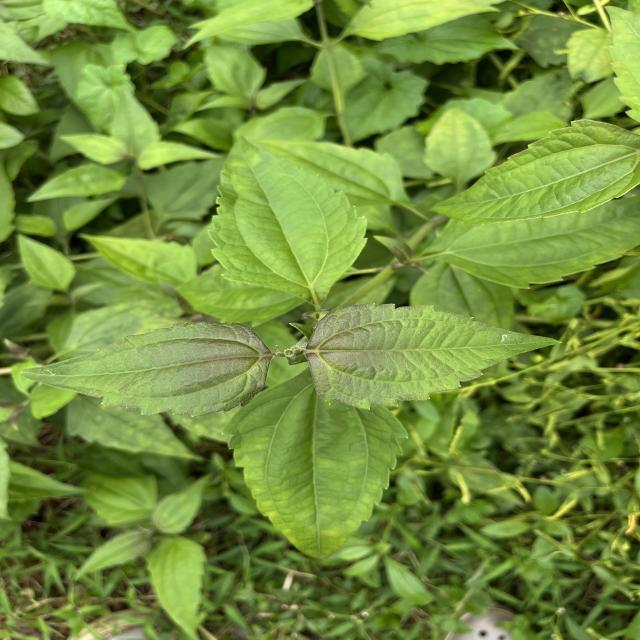Chromolaena odorata: (301, 297, 566, 413), (13, 318, 276, 419)
